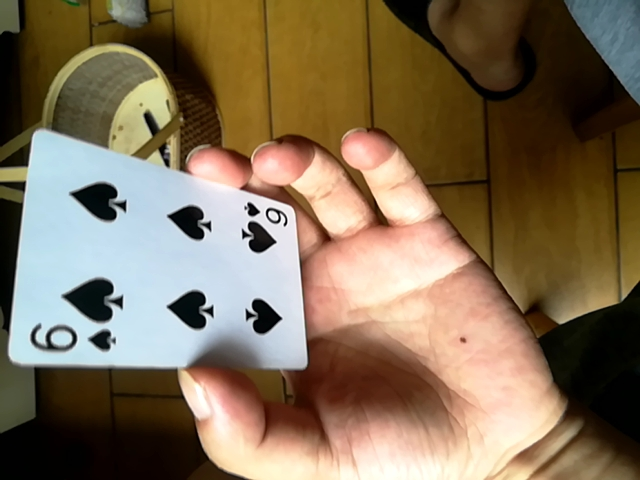ht 6: (5, 131, 309, 378)
